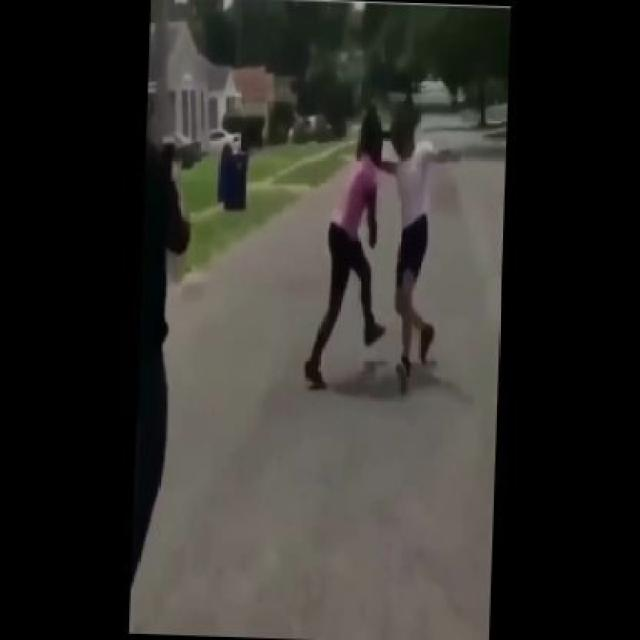fight: (297, 77, 454, 401)
